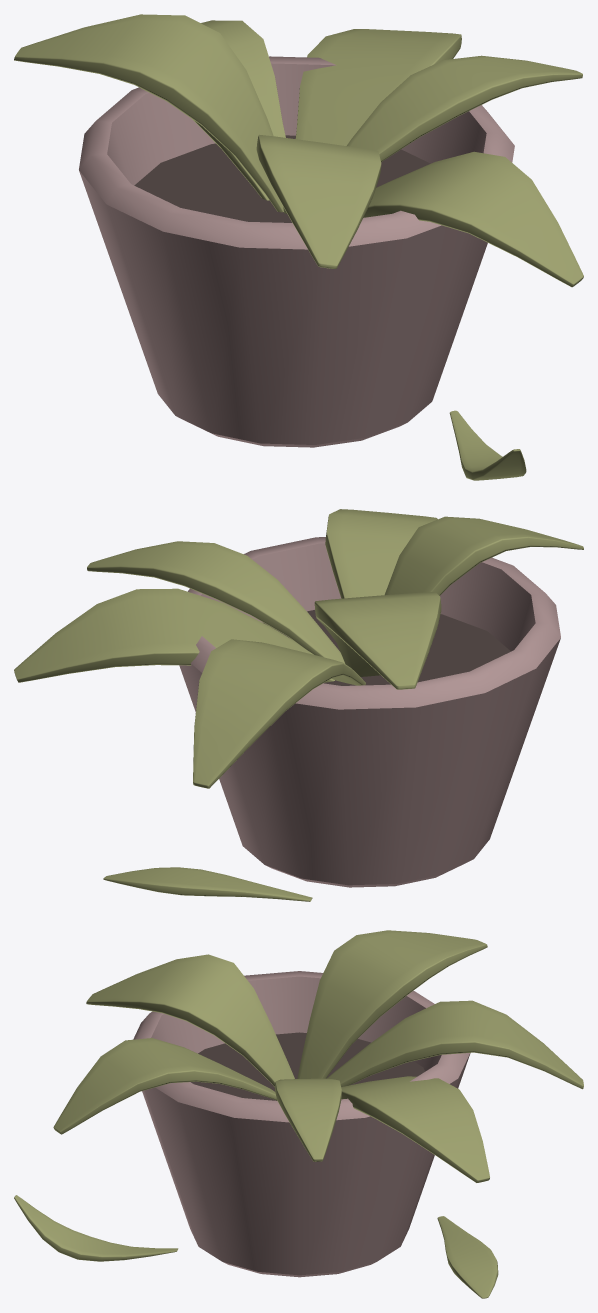
Rendered from SM_Plant_dead.fbx.
The picture shows the model from 3 angles, top to bottom: view 1: azimuth 30°, elevation 25°; view 2: azimuth 150°, elevation 25°; view 3: azimuth 270°, elevation 25°; orthographic projection. The views are drawn at different scales.
Parts seen in each view (by area): view 1: SM_plantdead; view 2: SM_plantdead; view 3: SM_plantdead.
Part boxes in pixels (x1,y1,x2,y2): SM_plantdead: [14, 14, 583, 480]; SM_plantdead: [14, 509, 583, 901]; SM_plantdead: [14, 930, 583, 1298].
Bounding box in the file's own units: 27.53 × 17.69 × 35.85.
